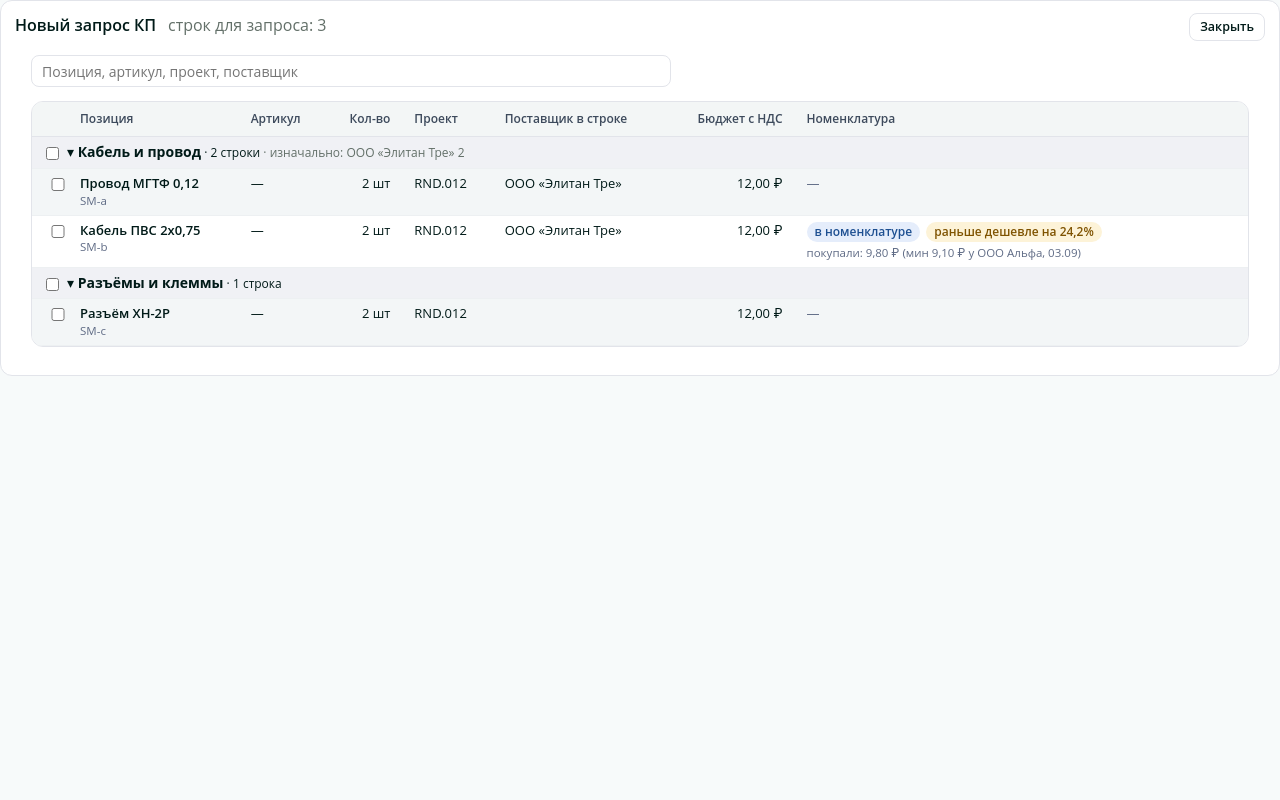
the supplier checkbox is half-ticked when a position is dropped and takes or drops all of them
The width and height of the screenshot is (1280, 800).
Step 1. Click the checkbox named "Выбрать группу «Кабель и провод»" → point(52, 154), box top-left (46, 148), bottom-right (59, 160)
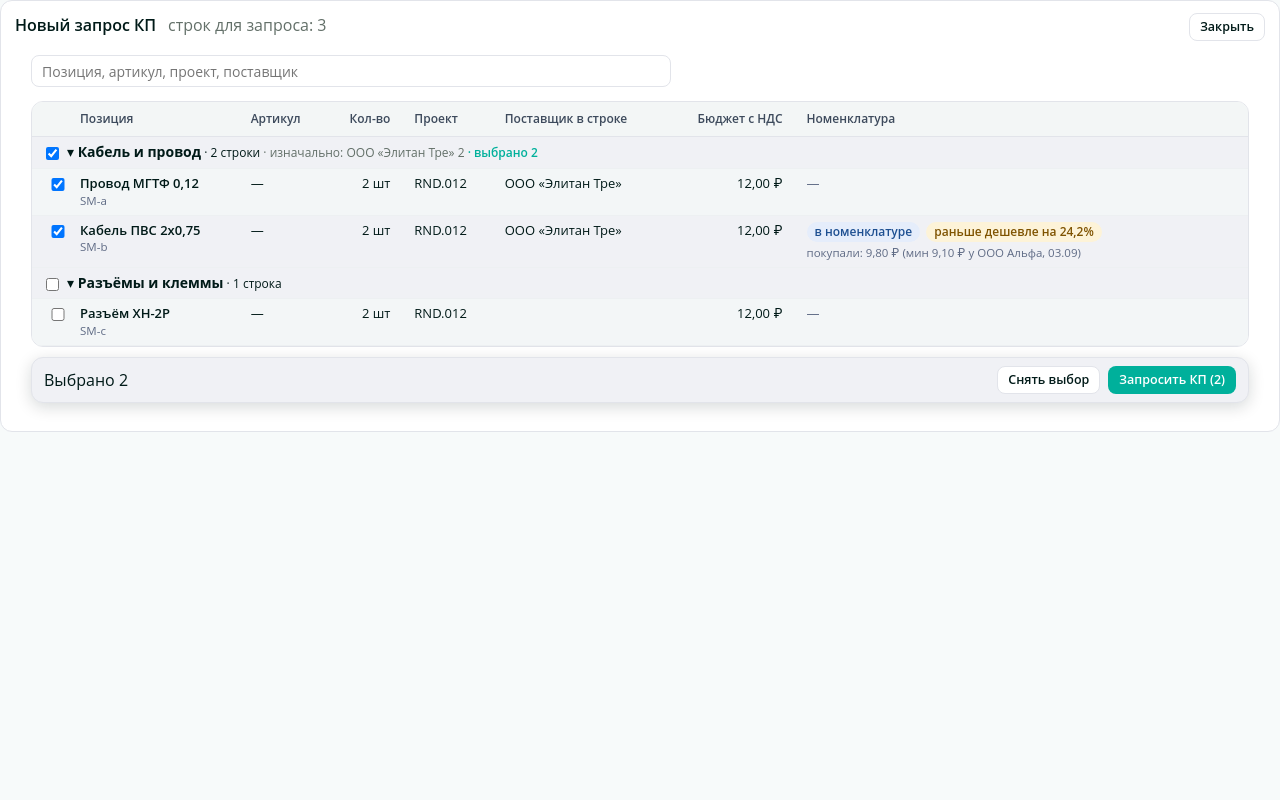
Step 2. Click the button "Запросить КП (2)" → point(1172, 380), box top-left (1108, 366), bottom-right (1236, 394)
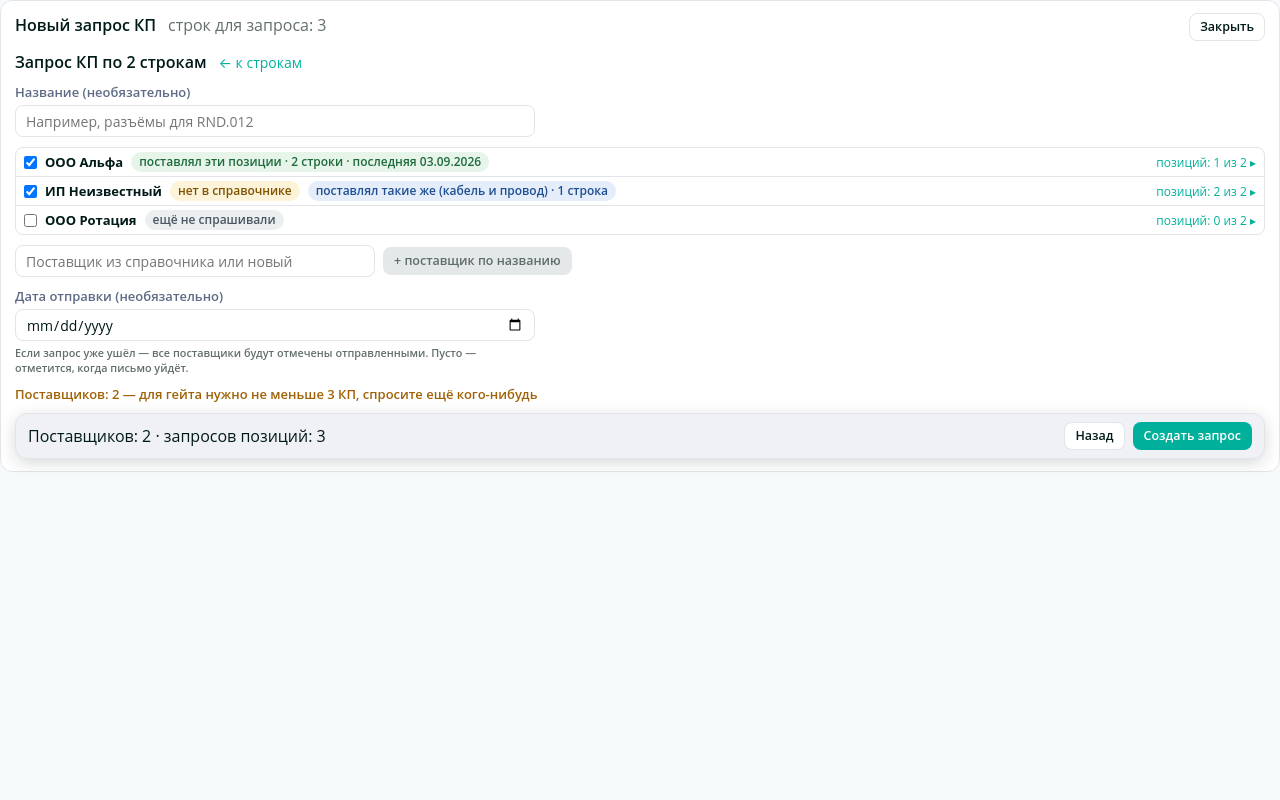
Expected: the checkbox named "Спросить ООО Альфа" is shown, top-left (24, 156), bottom-right (37, 168)
Step 3. Click the button "позиций: 2 из 2 ▸" → point(1206, 191), box top-left (1156, 182), bottom-right (1256, 200)
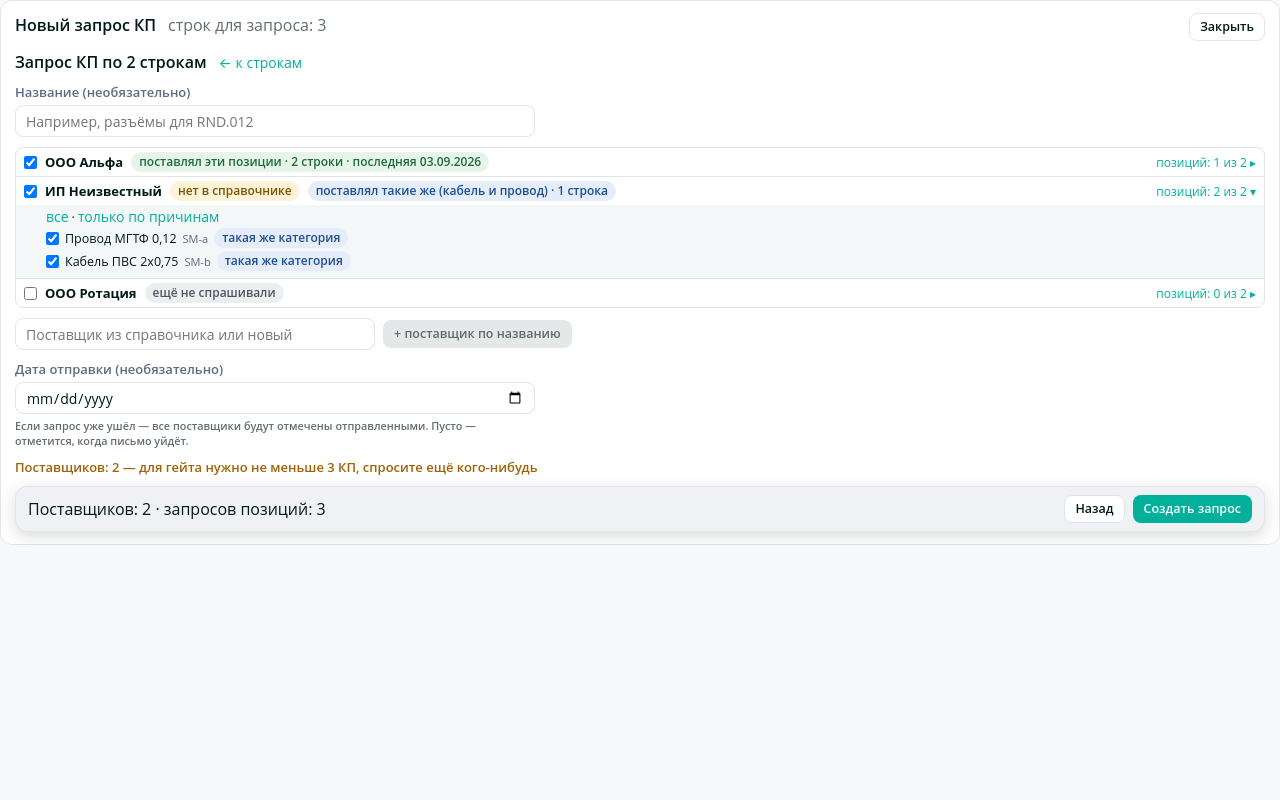
Step 4. Click the checkbox labelled "Кабель ПВС 2х0,75 SM-b такая же категория" → point(52, 261), box top-left (46, 254), bottom-right (59, 268)
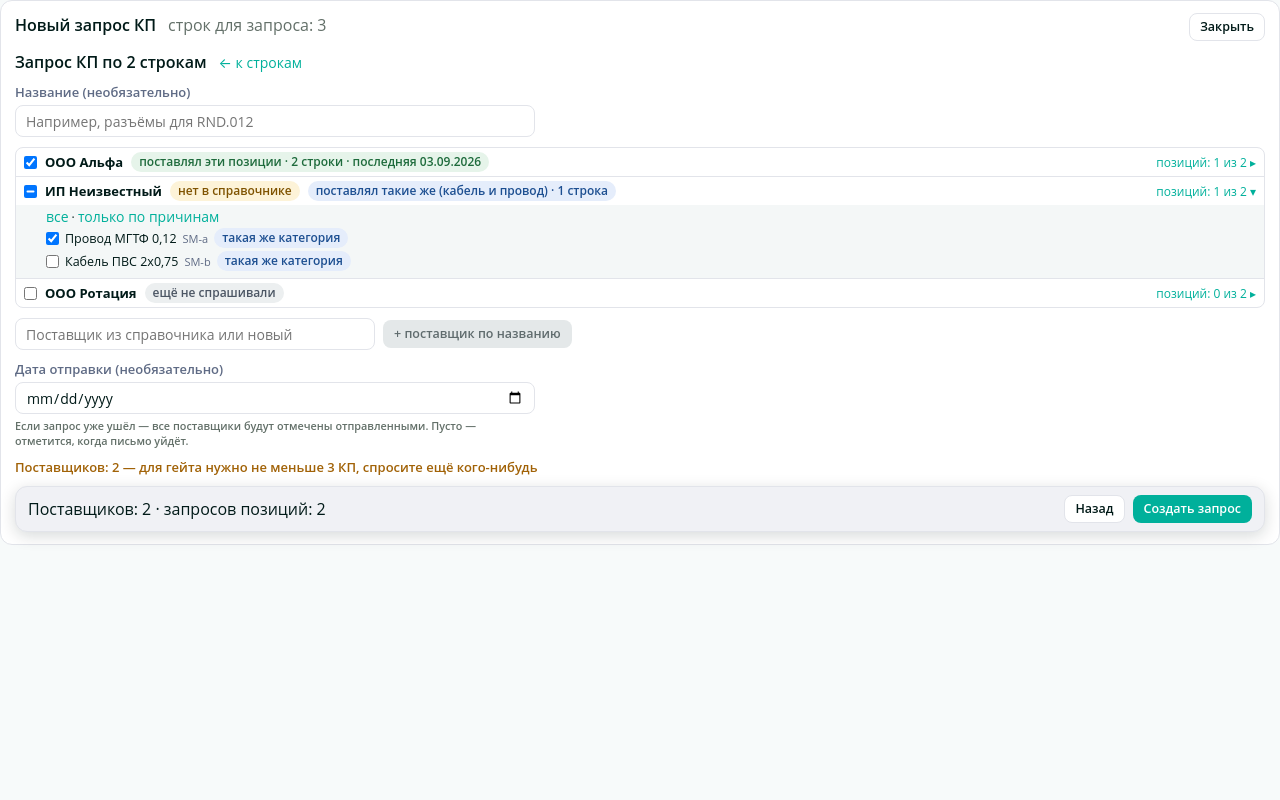
Step 5. Click the checkbox named "Спросить ИП Неизвестный" → point(30, 191), box top-left (24, 184), bottom-right (37, 198)
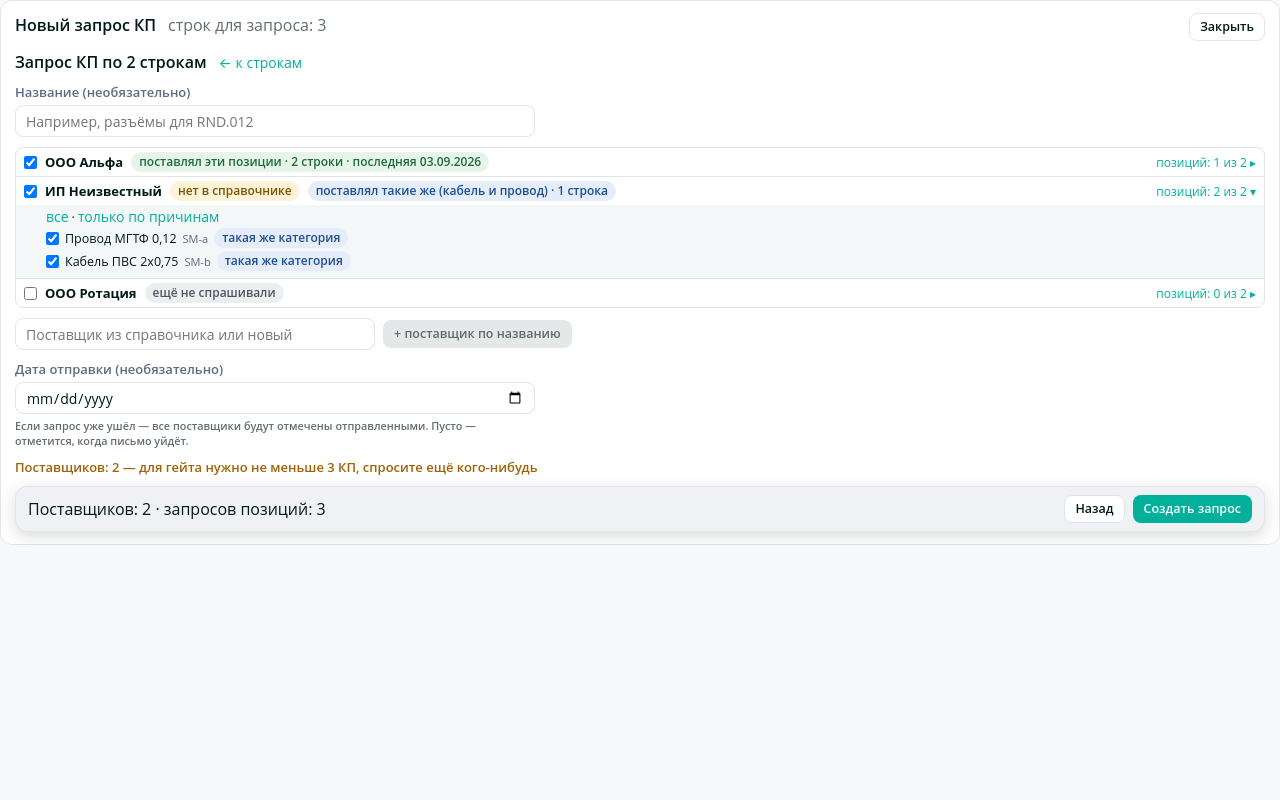
Step 6. Click the checkbox named "Спросить ИП Неизвестный" → point(30, 191), box top-left (24, 184), bottom-right (37, 198)
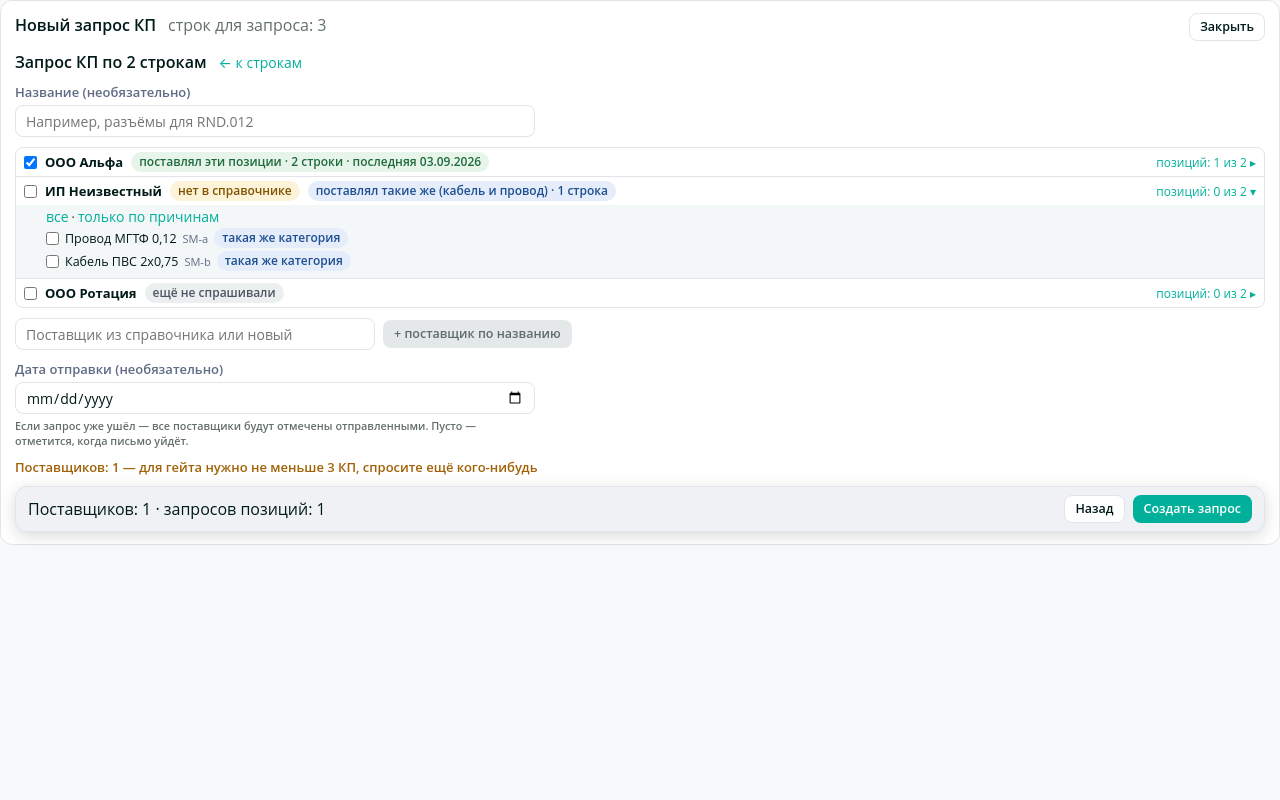
Expected: the element named "Создание запроса" shows "Поставщиков: 1 · запросов позиций: 1", top-left (15, 486), bottom-right (1265, 532)
